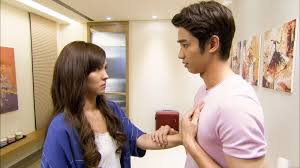people: (169, 2, 266, 168), (49, 42, 135, 168)
